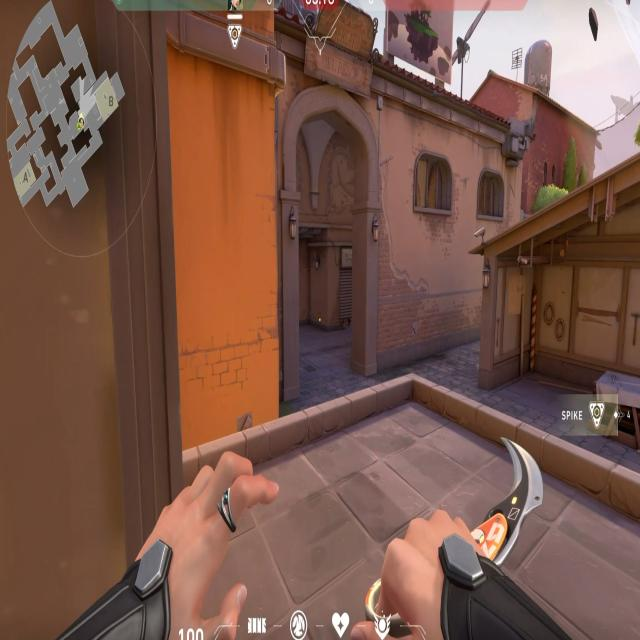B_Garage_Left: (482, 256, 628, 400)
Throwables: (411, 146, 455, 221), (476, 162, 505, 223)
